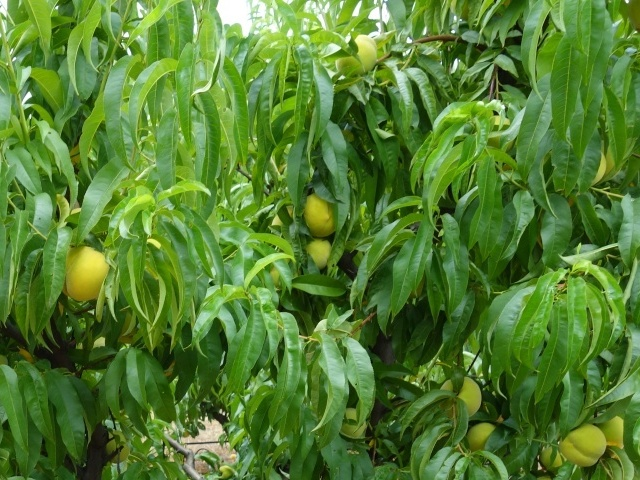peach: (60, 240, 116, 306), (554, 418, 609, 470), (296, 187, 344, 243), (435, 372, 486, 420), (333, 33, 380, 75), (590, 408, 633, 452), (295, 231, 335, 271), (463, 416, 498, 453), (533, 438, 571, 471), (338, 406, 373, 441)
